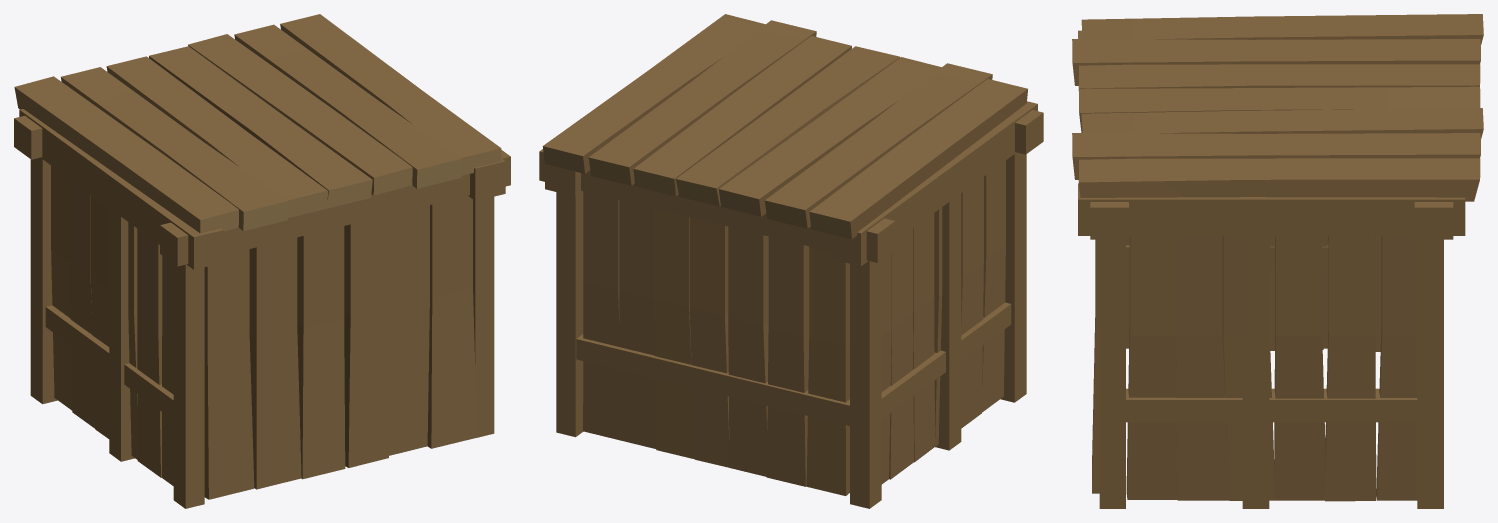
Rendered from HUT3.fbx.
3 renders of one model, left to right at view 1: azimuth 30°, elevation 25°; view 2: azimuth 150°, elevation 25°; view 3: azimuth 270°, elevation 25°, orthographic. The views are drawn at different scales.
Visible parts, largest first — view 1: Houses_FirstAge_3_Level3; view 2: Houses_FirstAge_3_Level3; view 3: Houses_FirstAge_3_Level3.
Part boxes in pixels (x1,y1,x2,y2): Houses_FirstAge_3_Level3: [14, 14, 510, 508]; Houses_FirstAge_3_Level3: [539, 14, 1043, 508]; Houses_FirstAge_3_Level3: [1072, 14, 1483, 508].
Size of the model in its own units: 67.65 by 57.41 by 65.13.
